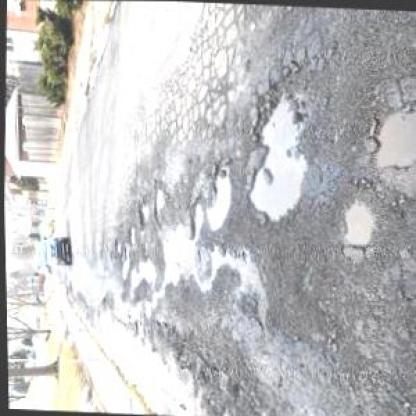pothole: (242, 89, 310, 223), (363, 104, 415, 176), (201, 161, 230, 231), (336, 197, 372, 248), (148, 182, 164, 218), (187, 201, 200, 237), (133, 199, 148, 224), (125, 224, 134, 247)
